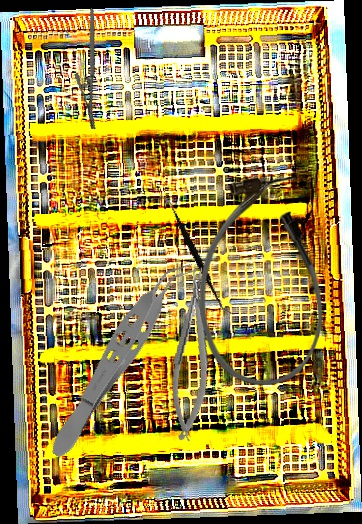Cannula: (200, 177, 323, 385)
Needle Holder: (163, 264, 222, 444), (53, 7, 133, 131)
Spatula Surgical: (125, 193, 269, 317)
Tissue Forceps: (39, 248, 201, 467)
